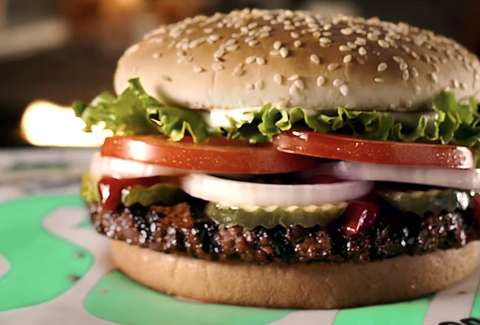hamburger_buns: (109, 10, 480, 132), (101, 240, 480, 306)
